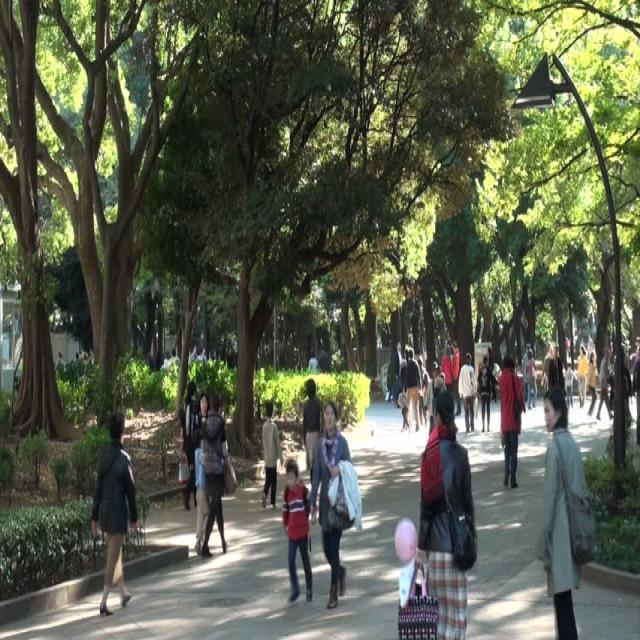body: (534, 384, 600, 639), (413, 389, 479, 640), (308, 399, 364, 612), (90, 407, 139, 617), (197, 392, 239, 560), (281, 457, 318, 604), (497, 353, 526, 491), (180, 380, 202, 512), (301, 376, 325, 492), (260, 398, 284, 511), (192, 433, 211, 558), (190, 391, 210, 509), (621, 336, 640, 445), (422, 359, 449, 432), (160, 342, 220, 374), (424, 359, 448, 437), (457, 350, 478, 434), (477, 355, 498, 433), (403, 347, 422, 433), (595, 346, 615, 422), (50, 344, 95, 371), (585, 349, 600, 419), (432, 370, 449, 430), (391, 340, 404, 411), (575, 344, 589, 409), (524, 348, 538, 411), (417, 355, 429, 428), (547, 344, 565, 392), (451, 340, 462, 417), (306, 342, 332, 374), (564, 360, 580, 411), (440, 344, 455, 395), (520, 341, 532, 404), (396, 389, 411, 435), (397, 343, 409, 393), (487, 347, 497, 405), (539, 344, 552, 384), (421, 372, 430, 428)
